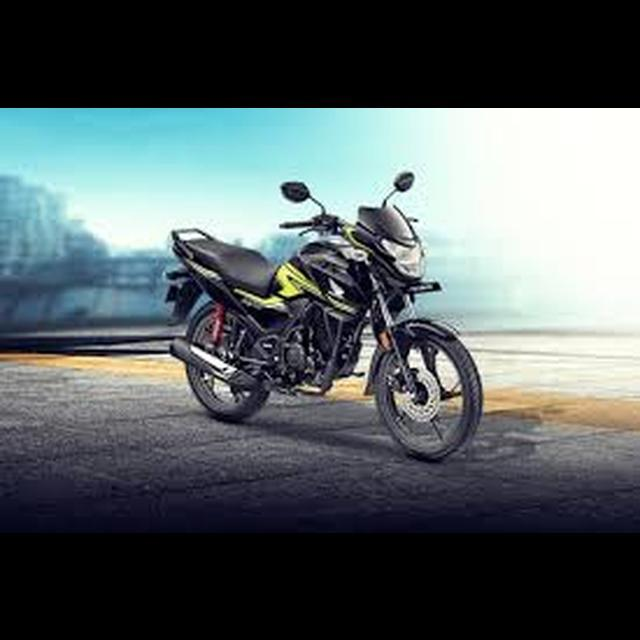motorcycle: (159, 163, 489, 467)
